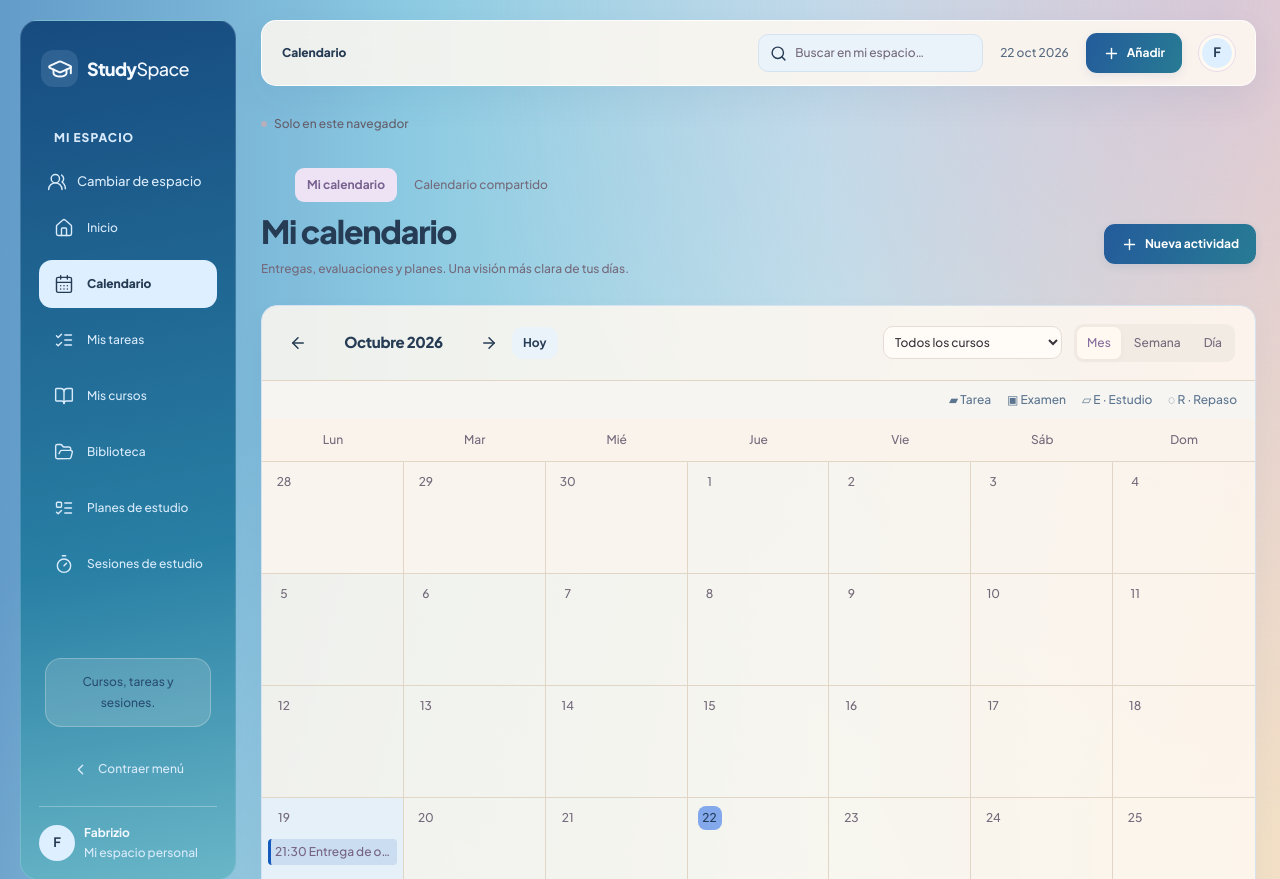
Test case: Biblioteca y personalización › refleja una tarea importada una sola vez en el calendario con el color guardado del curso
This screenshot has width=1280, height=879.
Expected: the heading "Mi calendario" is shown, [261,211,456,251]
Click the button with class "calendar-event" at x=332, y=852, box [268,839,397,865]
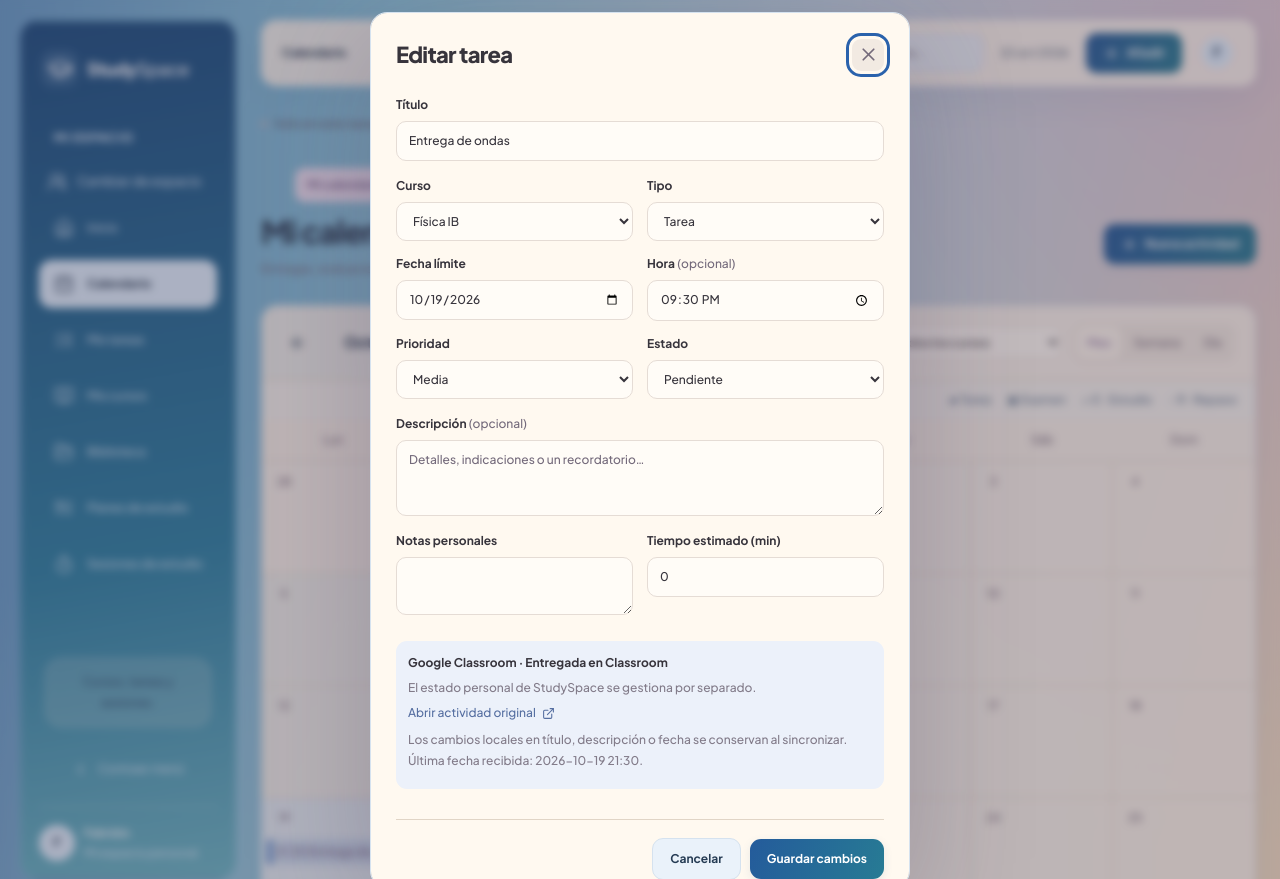
Now the text "Google Classroom · Entregada en Classroom" is shown, box [408,655,668,670]
Now the dropdown labelled "Estado" shows "Pendiente", box [647,360,884,399]
